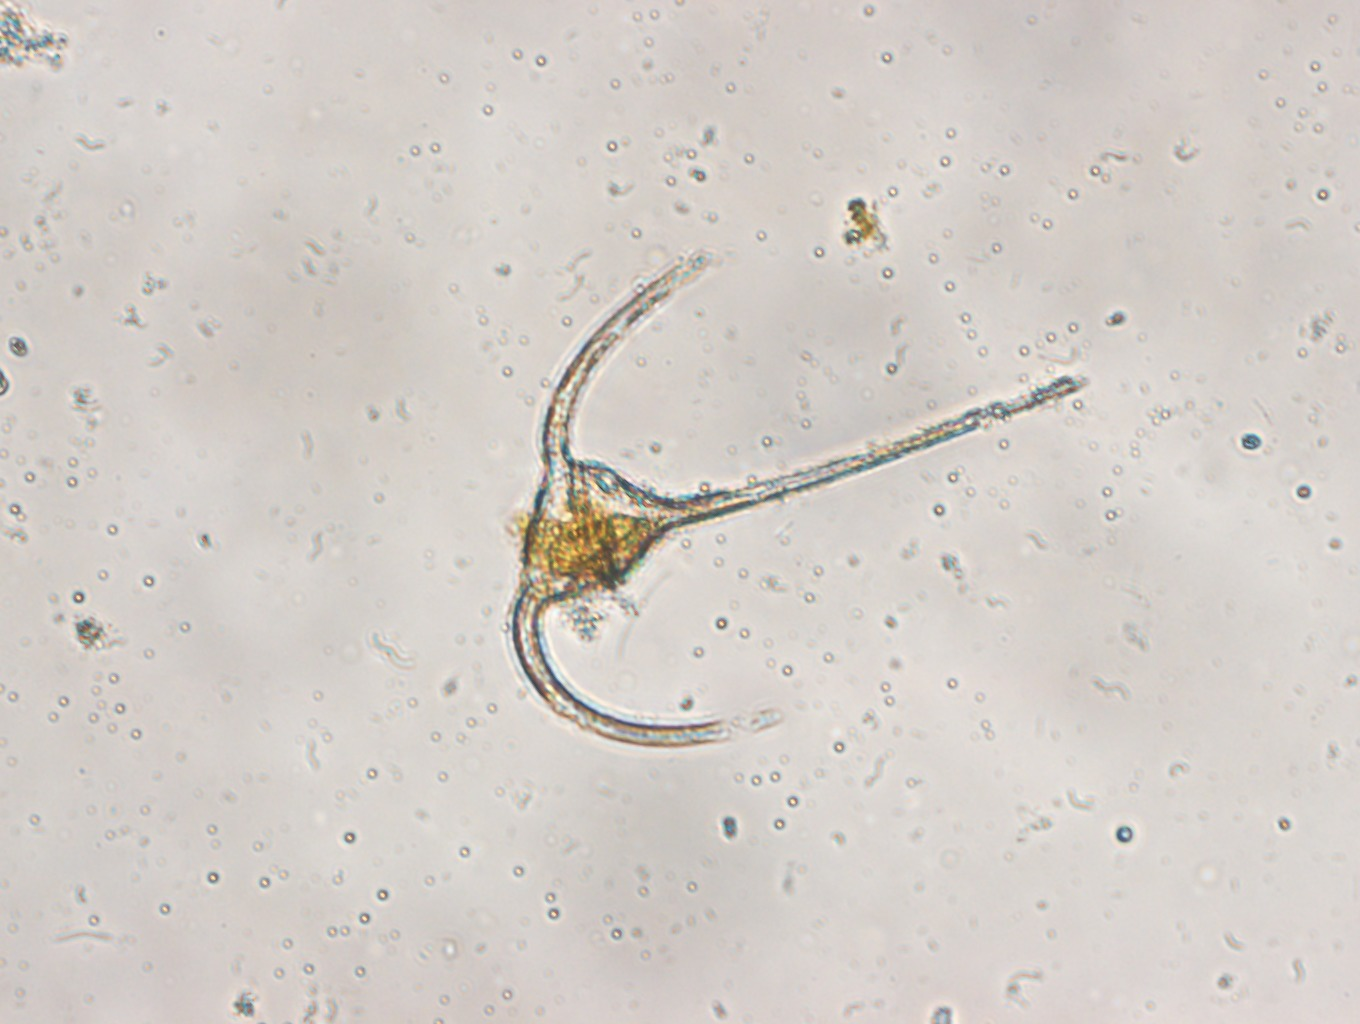ceratium trichoceros: (499, 244, 1110, 760)
